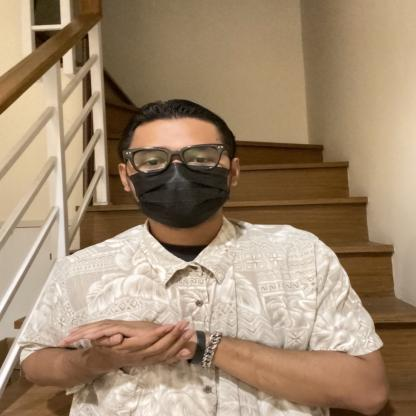Love: (34, 275, 272, 402)
